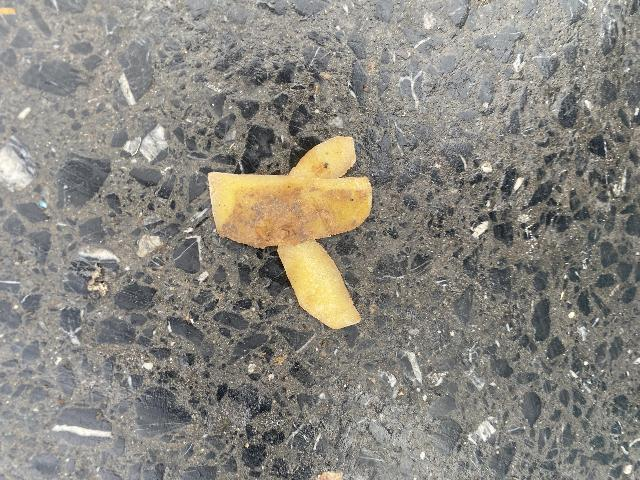Organik: (190, 133, 387, 332), (206, 171, 375, 246), (263, 243, 375, 338), (270, 129, 360, 186)
